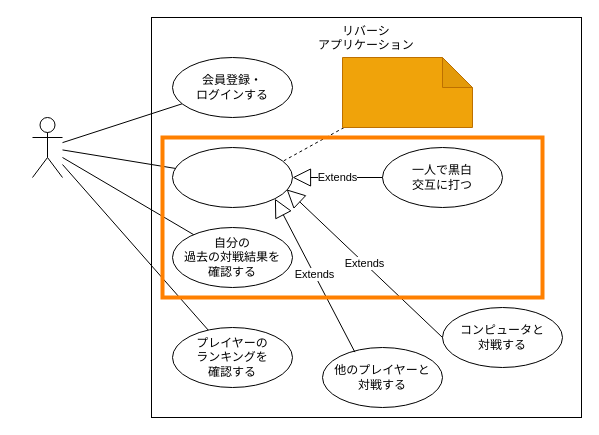
Image size: 599x435. Some labels were removed from this diagram. The centre of each missing label's shape, as x and y in pixels:
プレイヤー: (47,147)
・対戦を開始する ・盤面を見る ・石を打つ ・勝敗を確認する: (407,92)
対戦する: (232,177)
